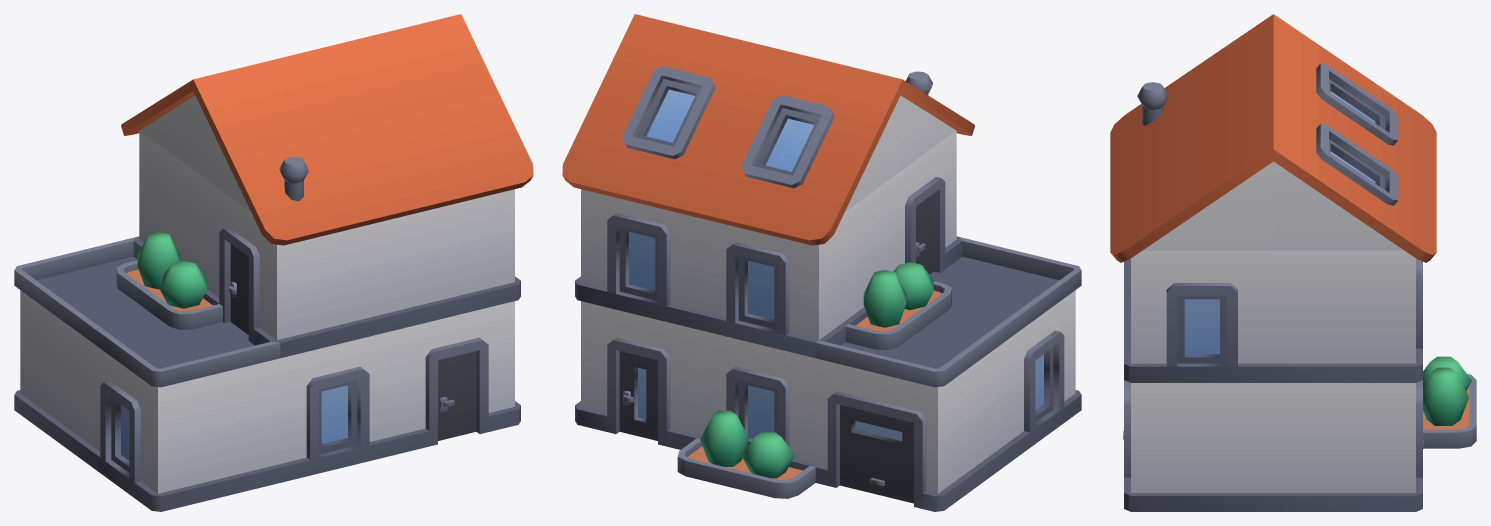
The model's file is house_suburb_o_warm.glb.
The picture shows the model from 3 angles, left to right: view 1: azimuth 30°, elevation 25°; view 2: azimuth 150°, elevation 25°; view 3: azimuth 270°, elevation 25°; orthographic projection. The views are drawn at different scales.
Visible parts, largest first — view 1: building-type-o; view 2: building-type-o; view 3: building-type-o.
Boxes of the visible parts, box(x1,y1,x2,y2) form: building-type-o: box(14, 14, 533, 511); building-type-o: box(562, 14, 1081, 511); building-type-o: box(1110, 14, 1476, 511).
Size of the model in its own units: 1.27 by 1.14 by 1.03.
1 material, 1 textured.
